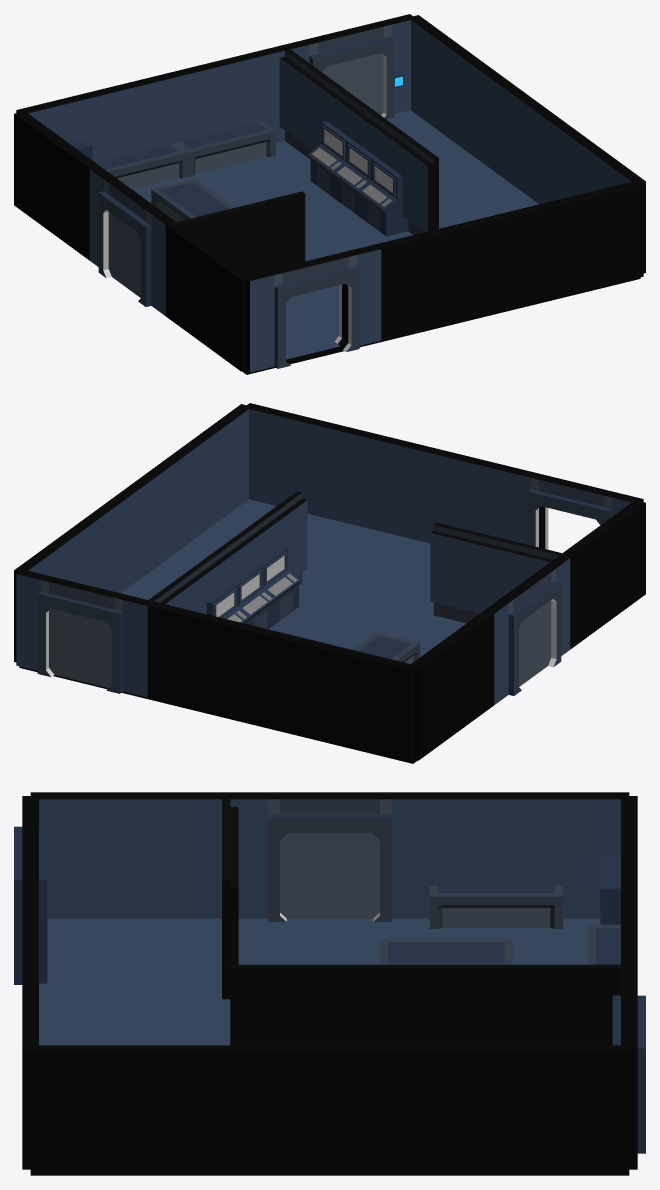
The model's file is Lab1.fbx.
3 views of the same model, one above another, from view 1: azimuth 30°, elevation 25°; view 2: azimuth 150°, elevation 25°; view 3: azimuth 270°, elevation 25° (orthographic). The views are drawn at different scales.
Parts seen in each view (by area): view 1: LaboratorySquareFloor, LaboratoryWall.008, LaboratoryWall.001, Doorway.001, LaboratoryWall.004, LaboratoryWall, LaboratoryWall.003, LaboratoryWall.006, LaboratoryWall.005, LaboratoryWall.002, HallwayWallStraight.001, Doorway (+12 smaller); view 2: LaboratorySquareFloor, LaboratoryWall.002, LaboratoryWall.004, LaboratoryWall.008, LaboratoryWall.001, Doorway.003, LaboratoryWall.003, HallwayWallStraight.001, LaboratoryWall, LaboratoryWall.006, LaboratoryWall.007, Doorway (+10 smaller); view 3: LaboratorySquareFloor, LaboratoryWall.005, LaboratoryWall.007, LaboratoryWall.006, LaboratoryWall, LaboratoryWall.003, HallwayWallStraight.003, Doorway, HallwayWallStraight.002, DoorClosed.001, LabTableWall.002, Doorway.003 (+9 smaller).
Boxes of the visible parts, <box> form: LaboratorySquareFloor: <box>132,110,640,374</box>; LaboratoryWall.008: <box>506,180,643,308</box>; LaboratoryWall.001: <box>375,212,512,340</box>; Doorway.001: <box>246,244,381,372</box>; LaboratoryWall.004: <box>148,46,284,148</box>; LaboratoryWall: <box>165,223,251,371</box>; LaboratoryWall.003: <box>14,112,100,260</box>; LaboratoryWall.006: <box>483,70,569,204</box>; LaboratoryWall.005: <box>411,15,493,163</box>; LaboratoryWall.002: <box>16,78,153,162</box>; HallwayWallStraight.001: <box>171,191,305,274</box>; Doorway: <box>89,166,175,315</box>; LaboratorySquareFloor: <box>19,499,465,763</box>; LaboratoryWall.002: <box>278,633,415,761</box>; LaboratoryWall.004: <box>147,601,284,729</box>; LaboratoryWall.008: <box>244,403,380,529</box>; LaboratoryWall.001: <box>375,435,511,543</box>; Doorway.003: <box>16,569,153,697</box>; LaboratoryWall.003: <box>409,611,494,760</box>; HallwayWallStraight.001: <box>430,522,566,623</box>; LaboratoryWall: <box>562,500,645,649</box>; LaboratoryWall.006: <box>90,459,176,593</box>; LaboratoryWall.007: <box>166,404,251,552</box>; Doorway: <box>484,555,570,704</box>; LaboratorySquareFloor: <box>30,918,629,1175</box>; LaboratoryWall.005: <box>429,1045,629,1172</box>; LaboratoryWall.007: <box>30,1045,230,1172</box>; LaboratoryWall.006: <box>230,1045,429,1172</box>; LaboratoryWall: <box>30,792,230,918</box>; LaboratoryWall.003: <box>429,792,629,918</box>; HallwayWallStraight.003: <box>230,964,429,1045</box>; Doorway: <box>230,792,429,921</box>; HallwayWallStraight.002: <box>429,964,620,1045</box>; DoorClosed.001: <box>280,833,379,918</box>; LabTableWall.002: <box>429,886,562,928</box>; Doorway.003: <box>612,964,645,1169</box>.
Size of the model in its own units: 1875 by 420 by 1900.
